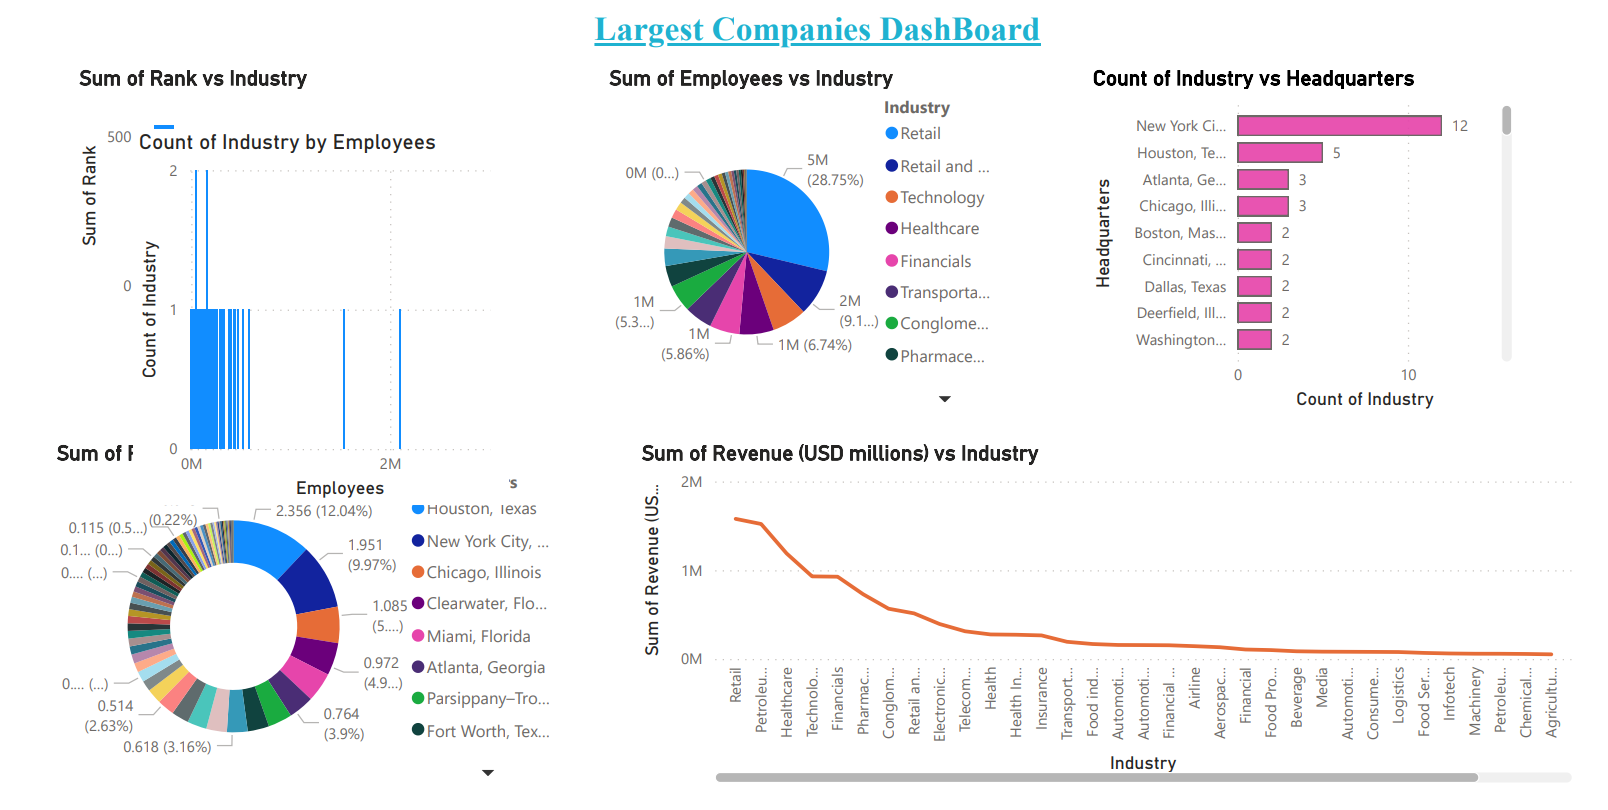

The dashboard page shown, as its layout file describes it:
{"tool":"powerbi","page":{"name":"Page 1","canvas":[1280,720],"ordinal":0},"visuals":[{"type":"pieChart","title":"Sum of Employees vs Industry","fields":{"Category":["Largest_Companies.Industry"],"Y":["Sum(Largest_Companies.Employees)"]},"box":[476.2,49.4,325.2,279.9],"z":0},{"type":"columnChart","title":"Sum of Rank vs Industry","fields":{"Category":["Largest_Companies.Industry"],"Y":["Sum(Largest_Companies.Rank)"]},"box":[52.1,49.4,347.2,279.9],"z":1000},{"type":"lineChart","title":"Sum of Revenue (USD millions) vs Industry","fields":{"Y":["Sum(Largest_Companies.Revenue (USD millions))"],"Category":["Largest_Companies.Industry"]},"box":[502.2,348.5,753.3,279.9],"z":2000},{"type":"barChart","title":"Count of Industry vs Headquarters","fields":{"Y":["CountNonNull(Largest_Companies.Industry)"],"Category":["Largest_Companies.Headquarters"]},"box":[863.1,49.4,344.4,279.9],"z":3000},{"type":"donutChart","title":"Sum of Revenue growth vs Headquarters","fields":{"Category":["Largest_Companies.Headquarters"],"Y":["Sum(Largest_Companies.Revenue growth)"]},"box":[34.3,348.5,414.4,279.9],"z":4000},{"type":"textbox","box":[463.8,0,450.1,49.4],"z":5000},{"type":"columnChart","fields":{"Category":["Largest_Companies.Employees"],"Y":["CountNonNull(Largest_Companies.Industry)"]},"box":[100,100,300,300],"z":6000}]}

Visuals, with their boxes on the page's 1280x720 design canvas (x1, y1, x2, y2). These are canvas units, not pixel positions in the 1608x810 screenshot, which may show the page scaled, cropped or inside an application window:
"Sum of Employees vs Industry" pieChart: region(476, 49, 801, 329)
"Sum of Rank vs Industry" columnChart: region(52, 49, 399, 329)
"Sum of Revenue (USD millions) vs Industry" lineChart: region(502, 348, 1256, 628)
"Count of Industry vs Headquarters" barChart: region(863, 49, 1208, 329)
"Sum of Revenue growth vs Headquarters" donutChart: region(34, 348, 449, 628)
textbox: region(464, 0, 914, 49)
columnChart - Largest_Companies.Employees x CountNonNull(Largest_Companies.Industry): region(100, 100, 400, 400)
